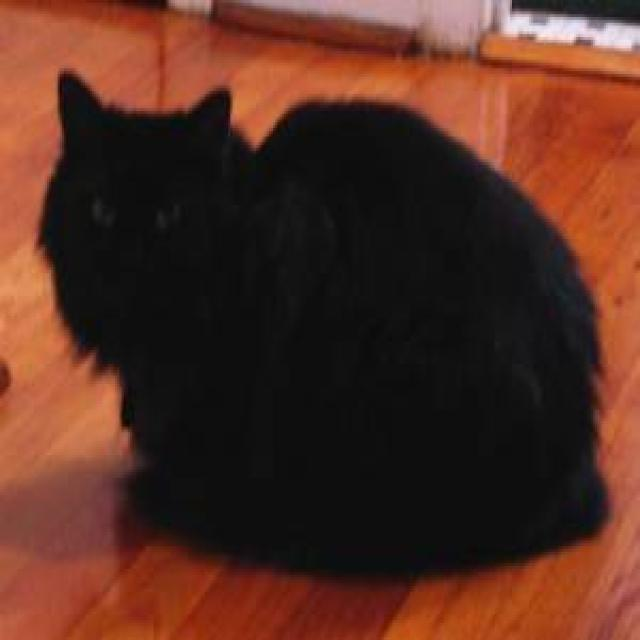Persian: (35, 61, 243, 344)
